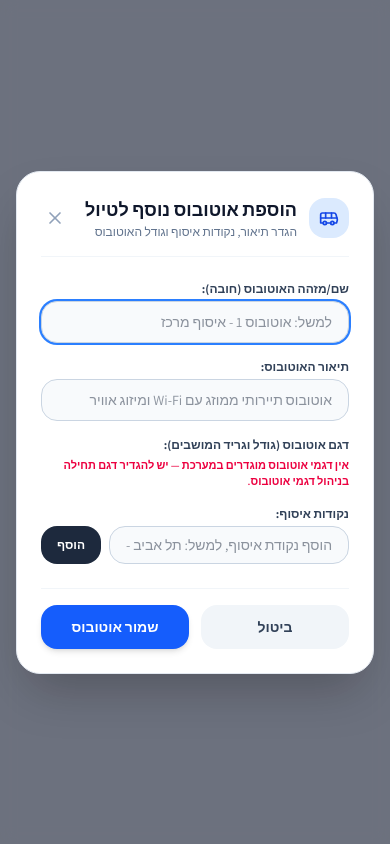
Test: BusModal › blocks submit and shows an inline error (not a toast) when name is empty
Click the button "שמור אוטובוס". click: coordinates (115, 626)
box: [41,604,189,648]
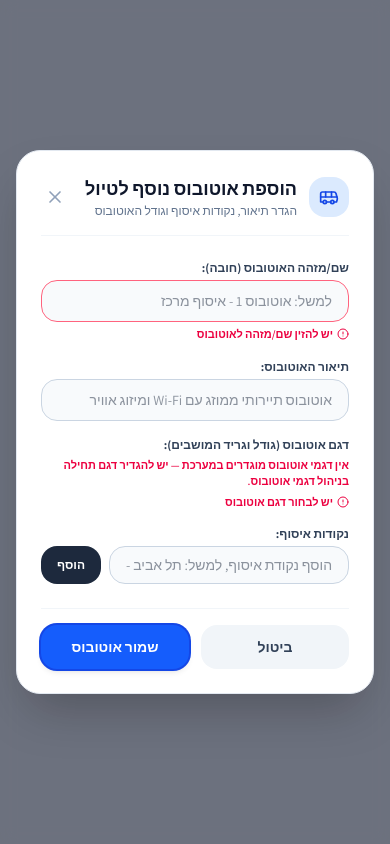
Now the text "יש להזין שם/מזהה לאוטובוס" is shown, box [197,326,333,342]
